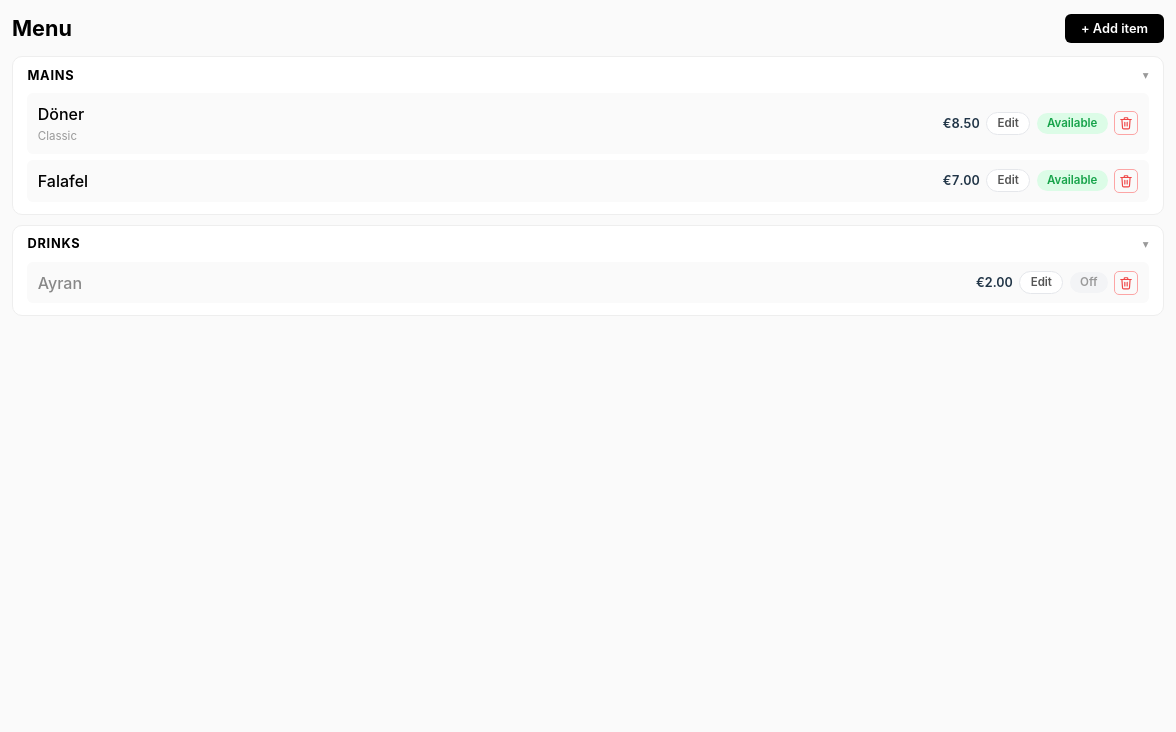
Test: MenuPage › opens the full edit form when Edit pill is clicked
Click the button "Edit" next to "8.50" at point(1008, 123), box [986, 112, 1030, 135]
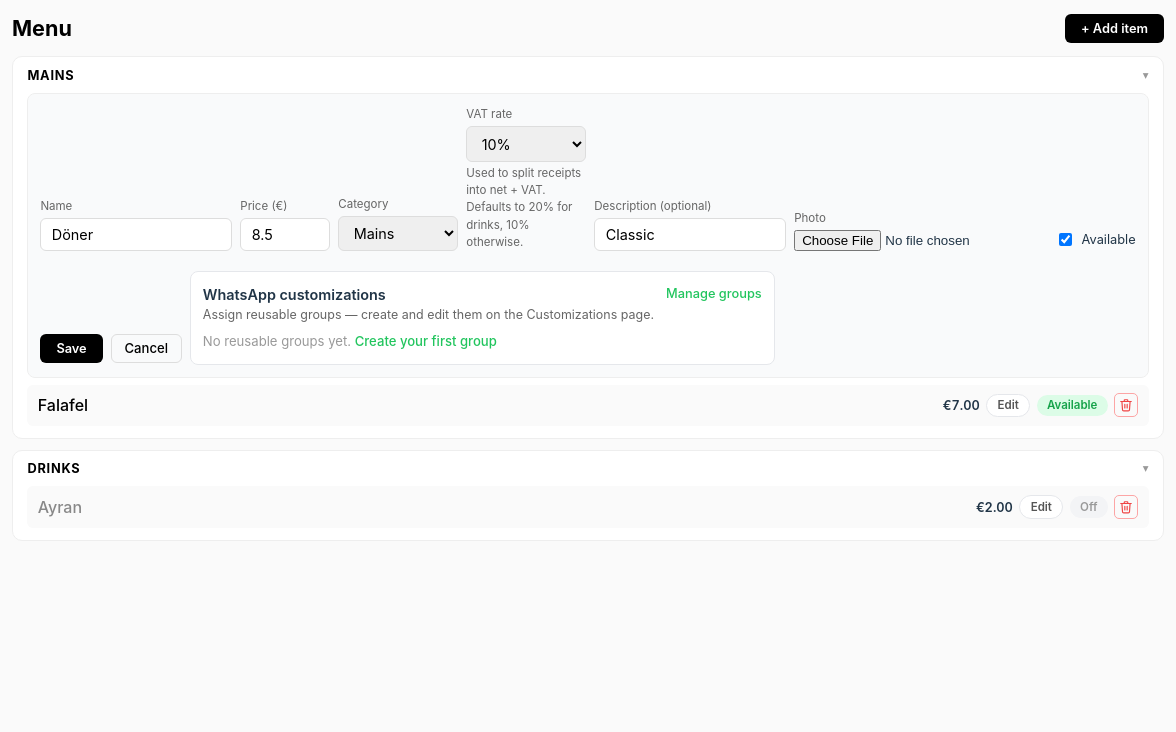
Now the field showing "Döner" below "Name" is shown, box [40, 218, 232, 251]
Now the button "Save" is shown, box [40, 334, 103, 363]
